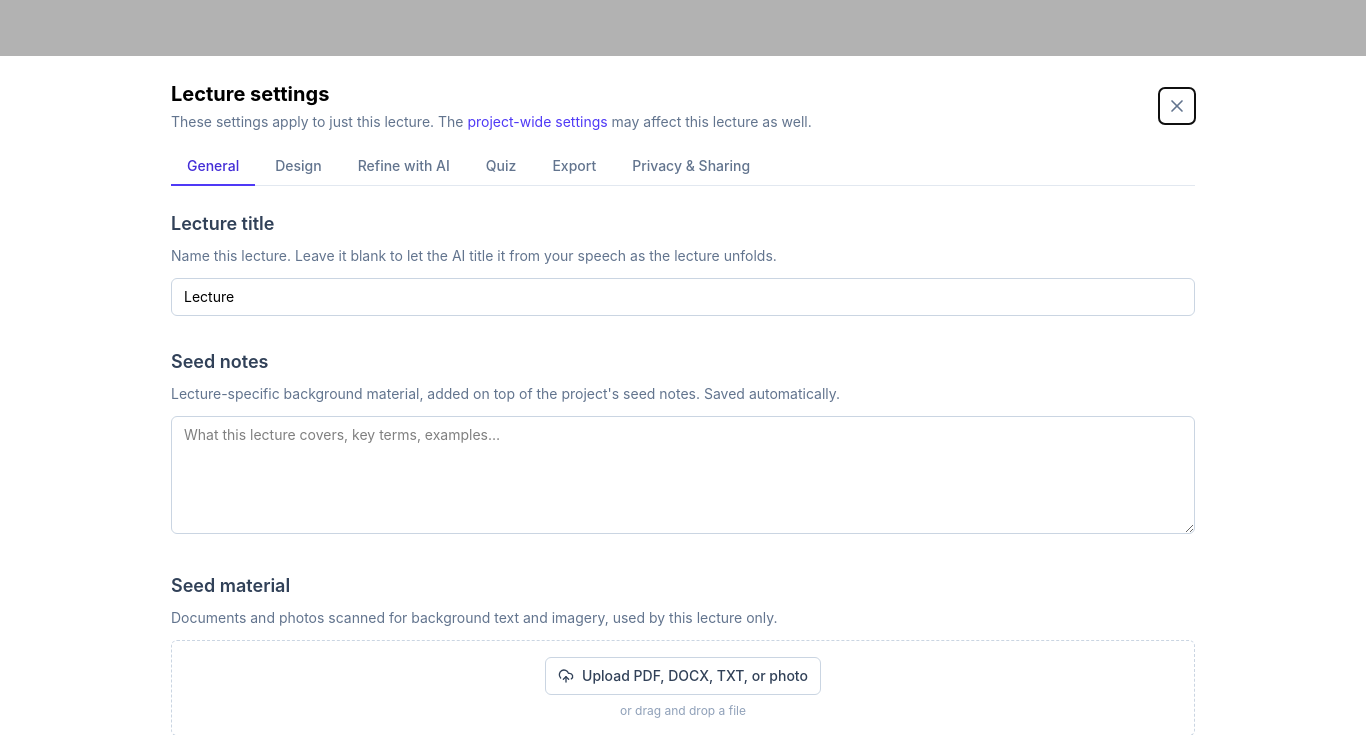
Test: DeckSettingsModal — Refine tab › starts the slider at the lecture-saved level when set
Click the tab "Refine with AI".
click(404, 167)  # box [342, 148, 466, 186]
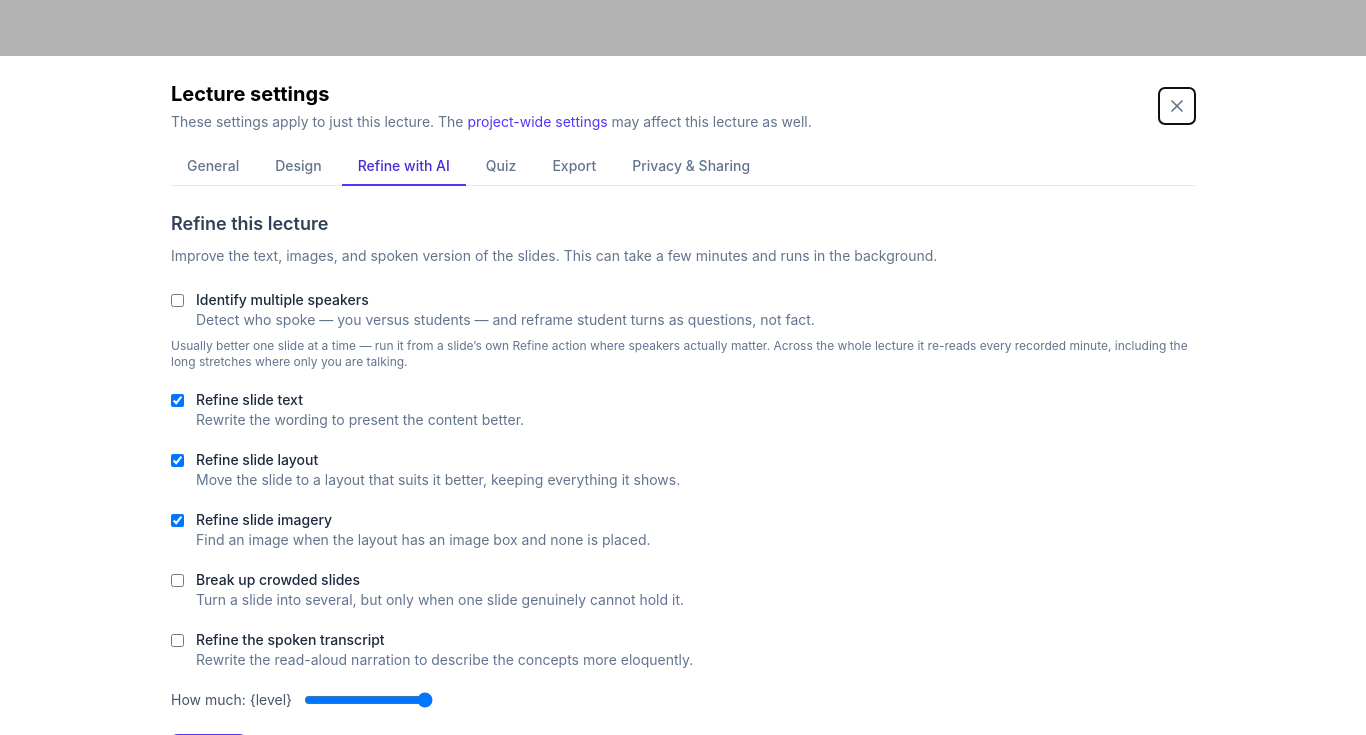
Expected: the slider named "How much to refine this lecture" holds "5", [304, 692, 433, 708]
